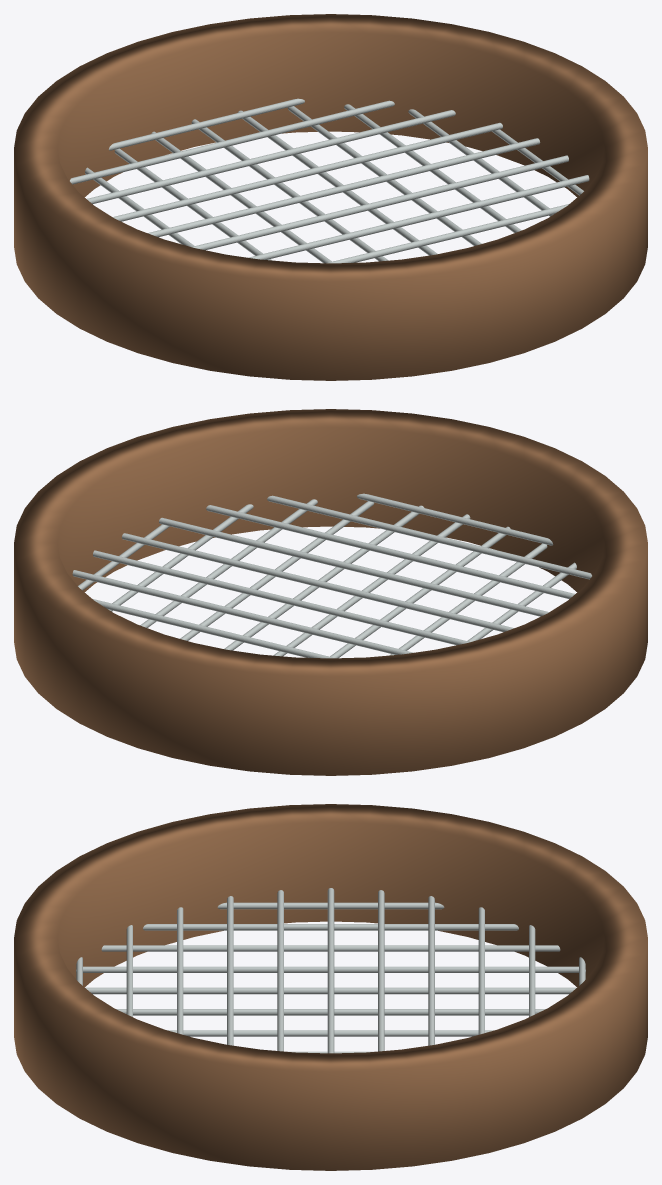
Rendered from tea-garden-and-processing-house-tea-garden-and-process-80b11ff8__30778.glb.
The picture shows the model from 3 angles, top to bottom: view 1: azimuth 30°, elevation 25°; view 2: azimuth 150°, elevation 25°; view 3: azimuth 270°, elevation 25°; orthographic projection.
Visible parts, largest first — view 1: tea-garden-and-processing-house-grading-sieve; view 2: tea-garden-and-processing-house-grading-sieve; view 3: tea-garden-and-processing-house-grading-sieve.
Boxes of the visible parts, x1,y1,x2,y2 form: tea-garden-and-processing-house-grading-sieve: (14,14,647,380); tea-garden-and-processing-house-grading-sieve: (14,409,647,775); tea-garden-and-processing-house-grading-sieve: (14,804,647,1170).
Bounding box in the file's own units: 0.58 × 0.1 × 0.58.
